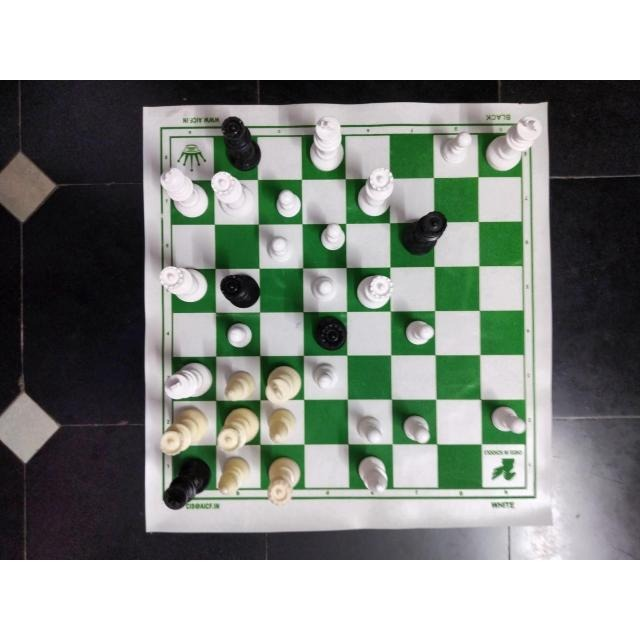black-king: (162, 457, 210, 509)
black-queen: (221, 116, 260, 168), (404, 212, 448, 256), (219, 272, 261, 307), (310, 314, 346, 350)
white-bishop: (357, 456, 389, 494), (217, 459, 250, 495), (267, 408, 296, 444), (223, 369, 254, 401)
white-king: (486, 115, 541, 173), (159, 166, 209, 218), (309, 115, 345, 173), (164, 362, 214, 400), (263, 364, 300, 404)
white-pawn: (490, 404, 526, 438), (441, 131, 473, 167), (401, 409, 432, 444), (355, 412, 387, 443), (404, 319, 436, 347), (267, 234, 295, 265), (222, 320, 253, 348), (274, 189, 302, 219), (309, 362, 340, 389), (309, 274, 337, 302), (318, 222, 346, 250)
white-queen: (158, 408, 209, 455), (208, 171, 255, 219), (216, 408, 260, 456), (157, 264, 209, 303), (355, 167, 394, 218), (265, 456, 302, 506), (356, 274, 394, 310)
